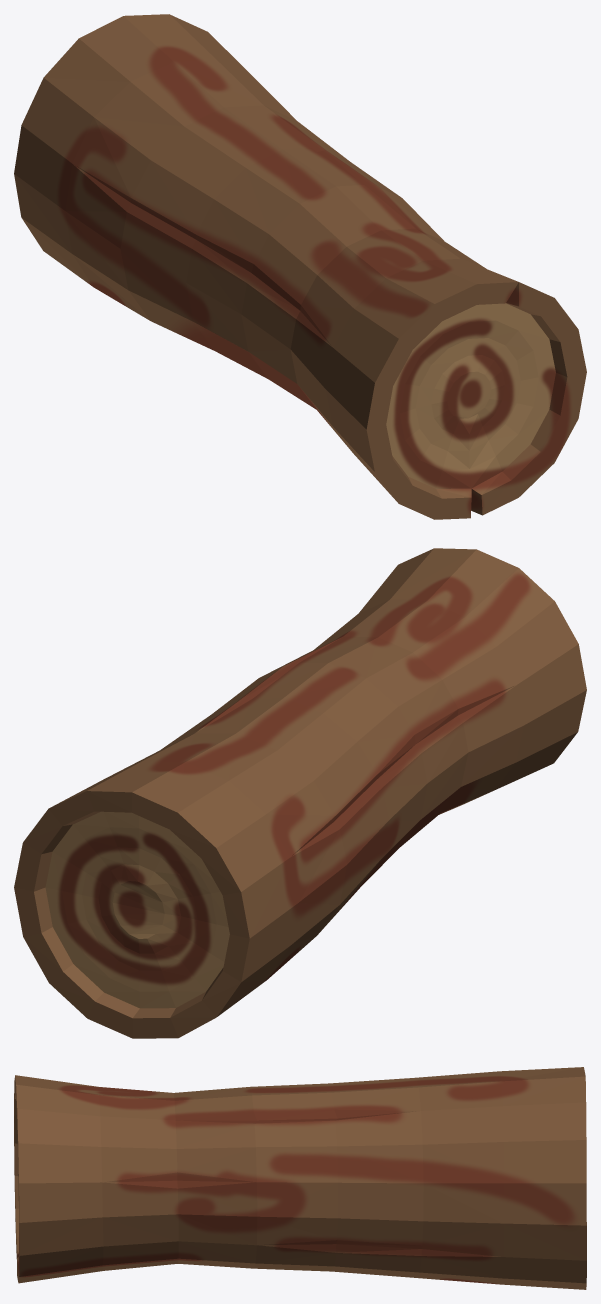
File: painted-log.glb
3 views of the same model, one above another, from view 1: azimuth 30°, elevation 25°; view 2: azimuth 150°, elevation 25°; view 3: azimuth 270°, elevation 25° (orthographic). The views are drawn at different scales.
Parts seen in each view (by area): view 1: log-col; view 2: log-col; view 3: log-col.
Part boxes in pixels (box(x1,y1,x2,y2)): log-col: box(14, 14, 586, 519); log-col: box(14, 548, 586, 1038); log-col: box(14, 1067, 586, 1289).
Bounding box in the file's own units: 0.2154 × 0.2206 × 0.5636.
Materials: 2 (2 with a texture image).
